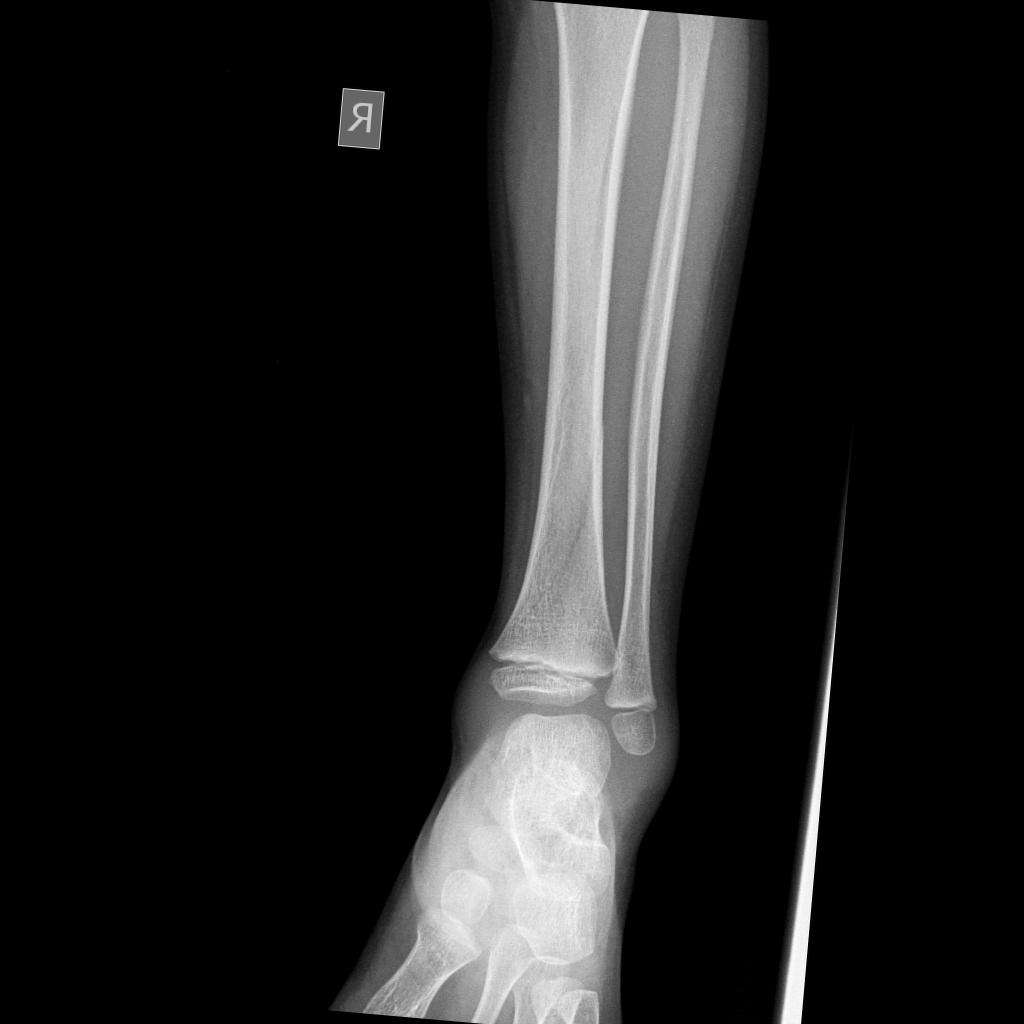line: (520, 415, 610, 627), (529, 400, 574, 560)
